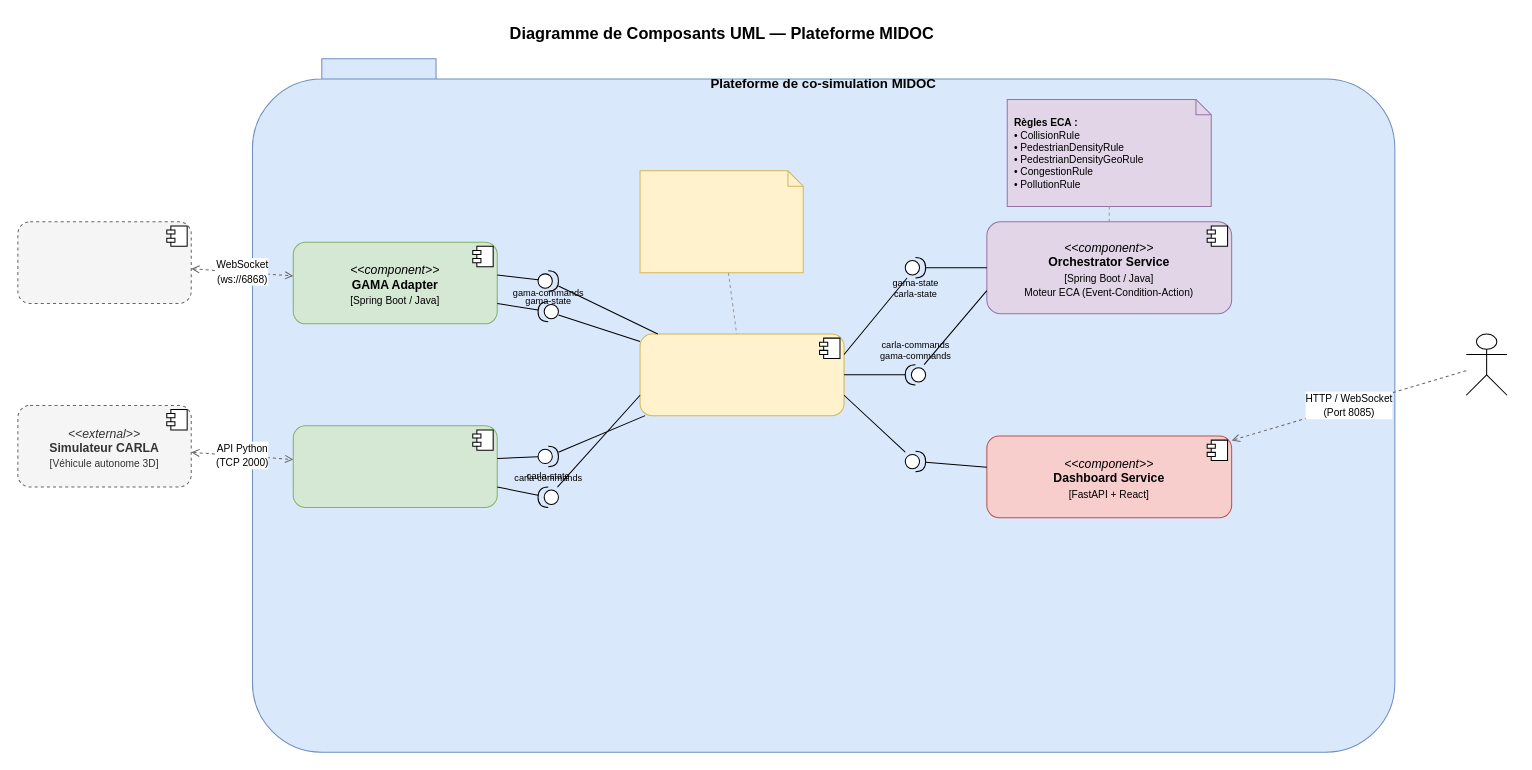
Image size: 1532x770. Some labels were removed from this diagram. The centre of each missing label's shape, as x and y in pixels:
<<component>> Apache Kafka [Message Broker]: the point at 741,374
<<component>> CARLA Adapter [FastAPI / Python]: the point at 394,466
<<external>> Simulateur GAMA [Mobilité urbaine]: the point at 104,262
gama-state carla-state carla-commands: the point at 915,461
Opérateur: the point at 1486,364
Topics Kafka : • gama-state • carla-state • carla-commands • gama-commands: the point at 721,221
